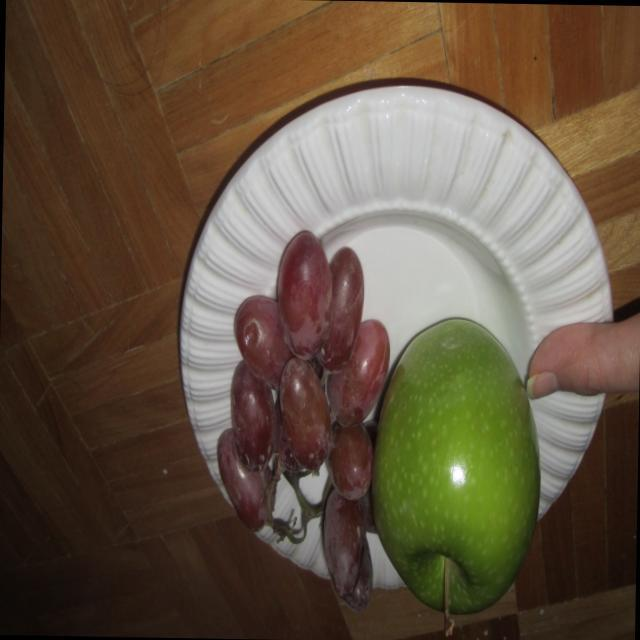Apple: (372, 320, 540, 637)
Finger: (522, 313, 611, 407)
Grapes: (206, 225, 380, 622)
